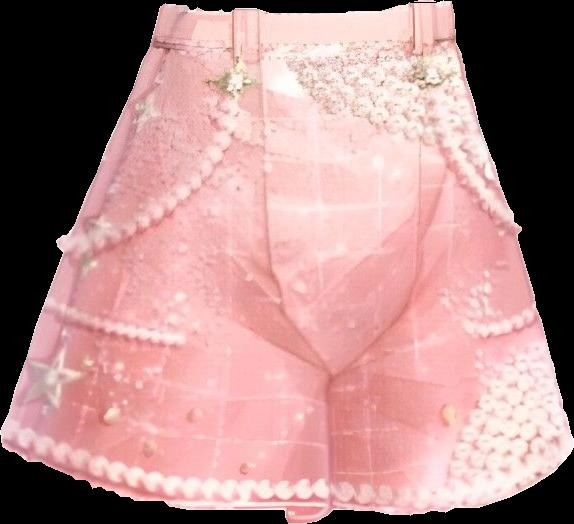Hemline: (0, 435, 334, 515), (332, 442, 573, 517)
Pantleg: (1, 2, 421, 523), (257, 0, 573, 514)
Waistline: (148, 34, 455, 59), (159, 0, 450, 19)
